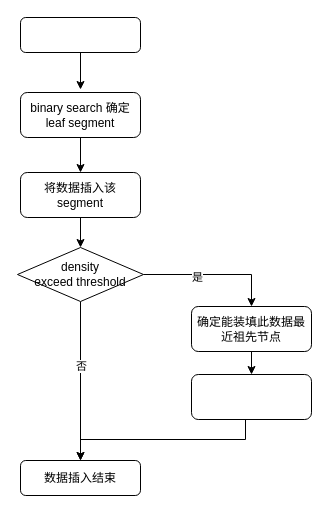
Some shapes in this 329 by 513 pixel diagram are drawn without their labels. Each missing label, with the centre of its shape:
"re-dispatching all entries" goes at (x=251, y=397).
"数据插入开始" goes at (x=80, y=34).
